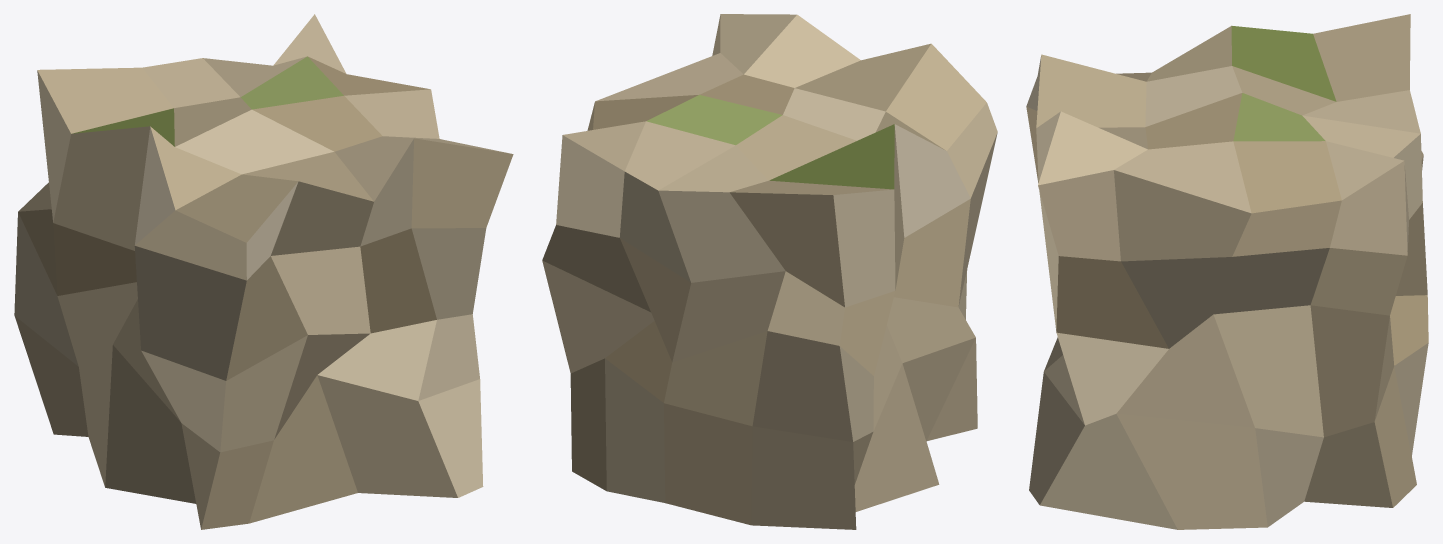
File: Limestone_c.fbx
3 renders of one model, left to right at view 1: azimuth 30°, elevation 25°; view 2: azimuth 150°, elevation 25°; view 3: azimuth 270°, elevation 25°, orthographic. The views are drawn at different scales.
Visible parts, largest first — view 1: Limestone_c; view 2: Limestone_c; view 3: Limestone_c.
Part boxes in pixels (x1,y1,x2,y2): Limestone_c: [14, 14, 513, 529]; Limestone_c: [542, 14, 997, 529]; Limestone_c: [1026, 14, 1428, 529].
Size of what is drawn, in the model's own units: 1 by 1 by 1.
